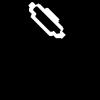chain: (29, 2, 64, 37)
